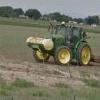Tractor: (26, 19, 99, 69)
